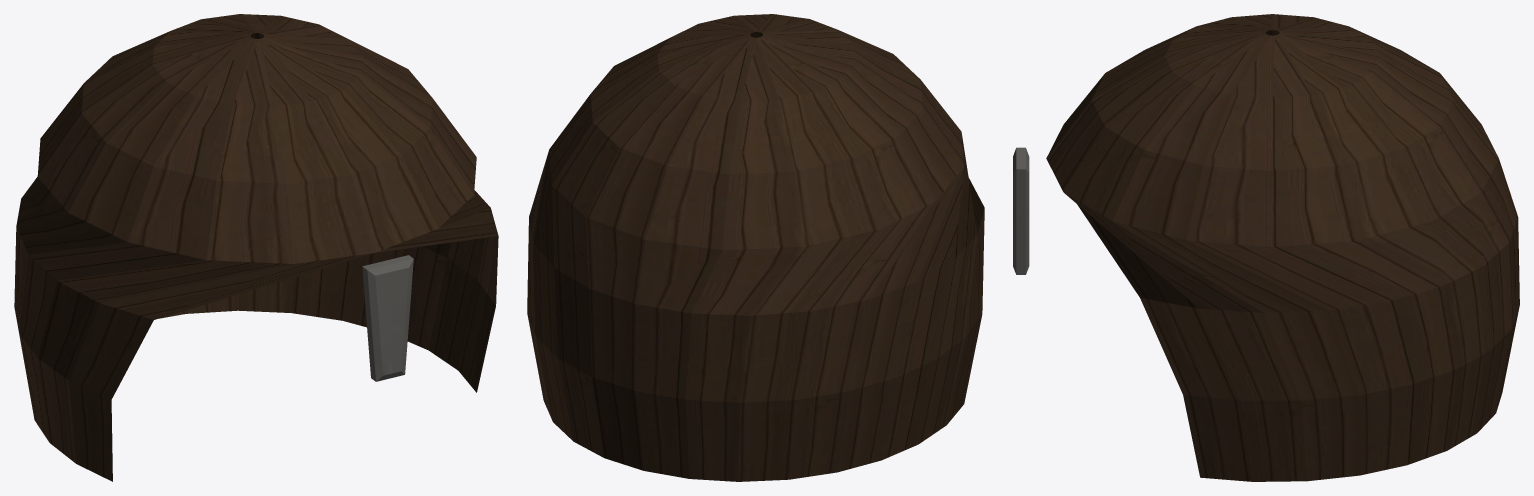
The model's file is eq_past_1_head.glb.
3 renders of one model, left to right at view 1: azimuth 30°, elevation 25°; view 2: azimuth 150°, elevation 25°; view 3: azimuth 270°, elevation 25°, orthographic. The views are drawn at different scales.
Parts seen in each view (by area): view 1: eq_past_1_head; view 2: eq_past_1_head; view 3: eq_past_1_head.
Boxes of the visible parts, x1,y1,x2,y2 form: eq_past_1_head: [14, 14, 498, 481]; eq_past_1_head: [527, 14, 984, 481]; eq_past_1_head: [1013, 14, 1519, 481].
Bounding box in the file's own units: 0.2821 × 0.246 × 0.3144.
Materials: 2 (2 with a texture image).
